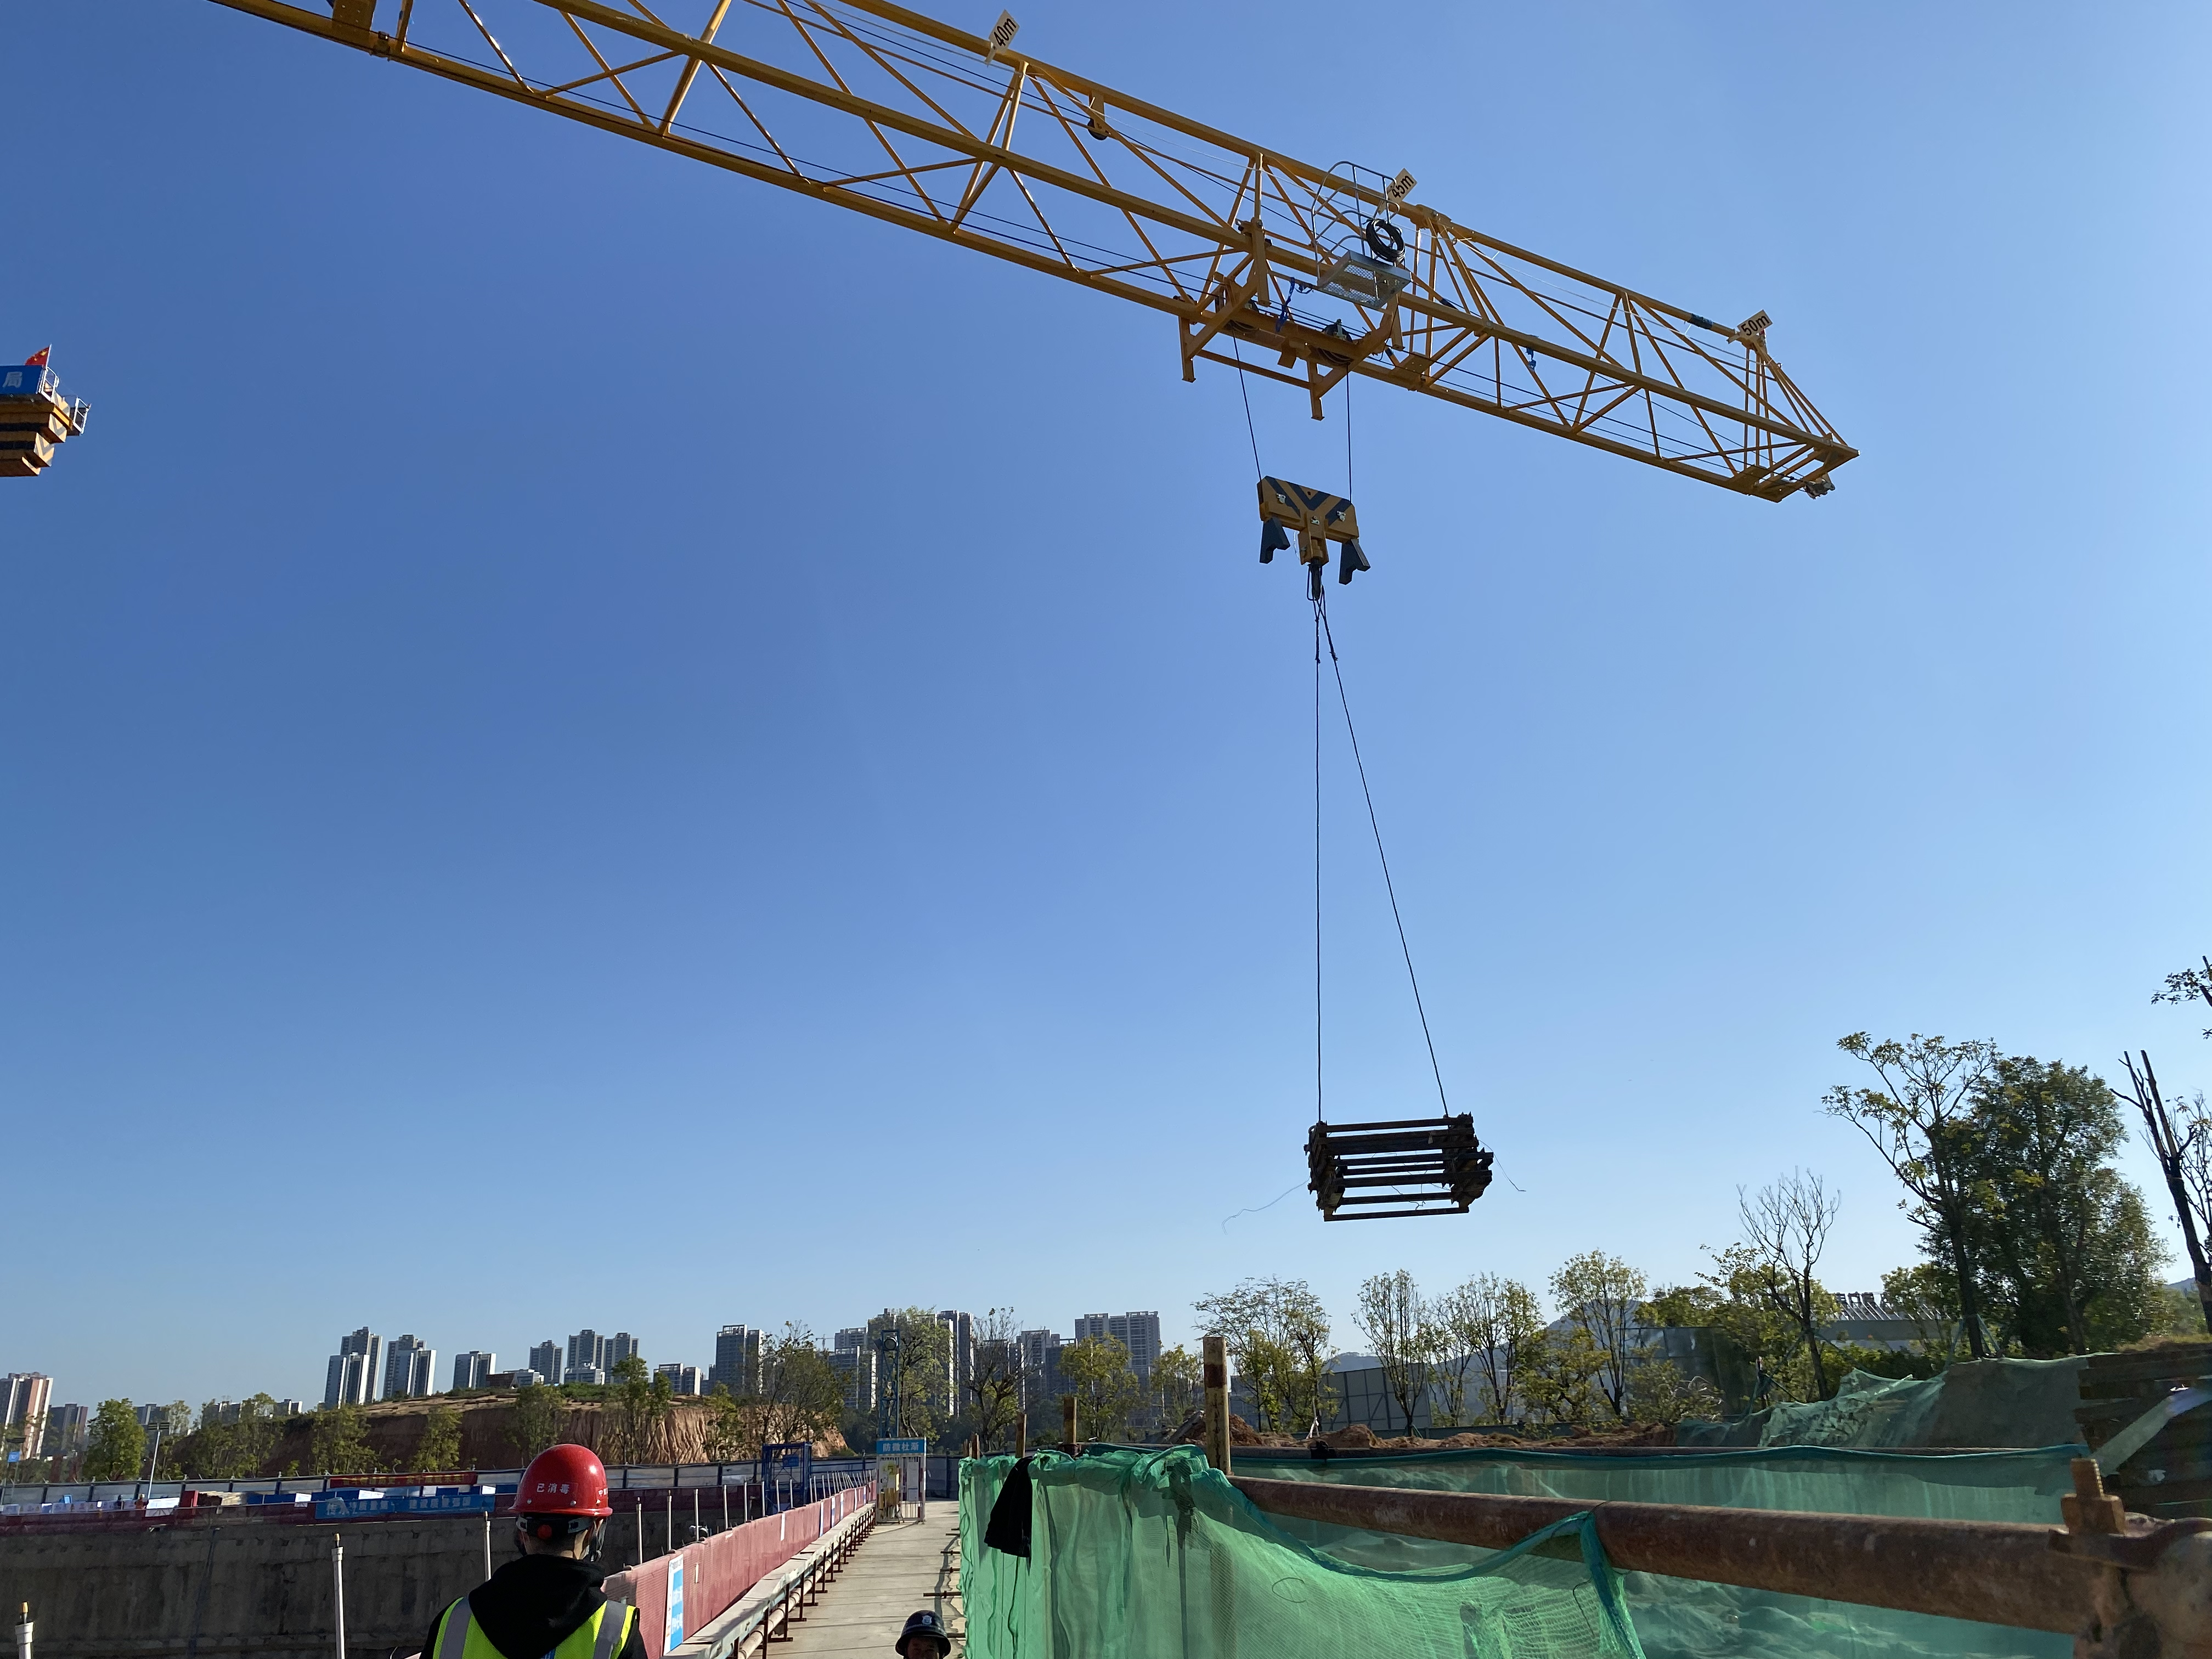fence: (664, 1499, 828, 1631)
helmet: (517, 1448, 608, 1515), (895, 1609, 951, 1655)
hook: (1257, 477, 1370, 585)
person: (435, 1444, 657, 1659)
